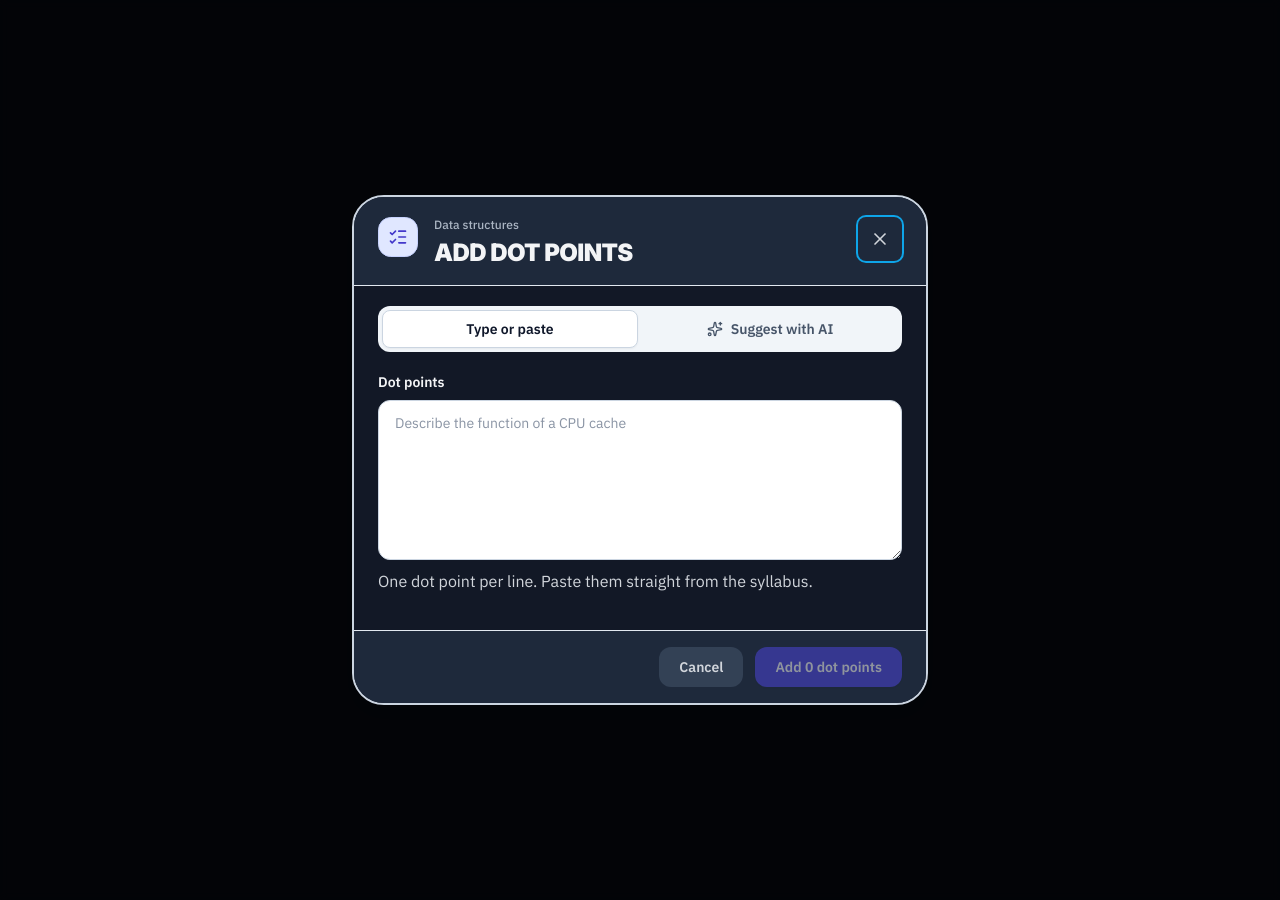
DotPointGeneratorModal: typing or pasting dot points › asks before discarding typed text, and keeps it if the teacher keeps editing
In the text box labelled "Dot points": (640, 480) [378,400,902,560], type "Describe a cache"
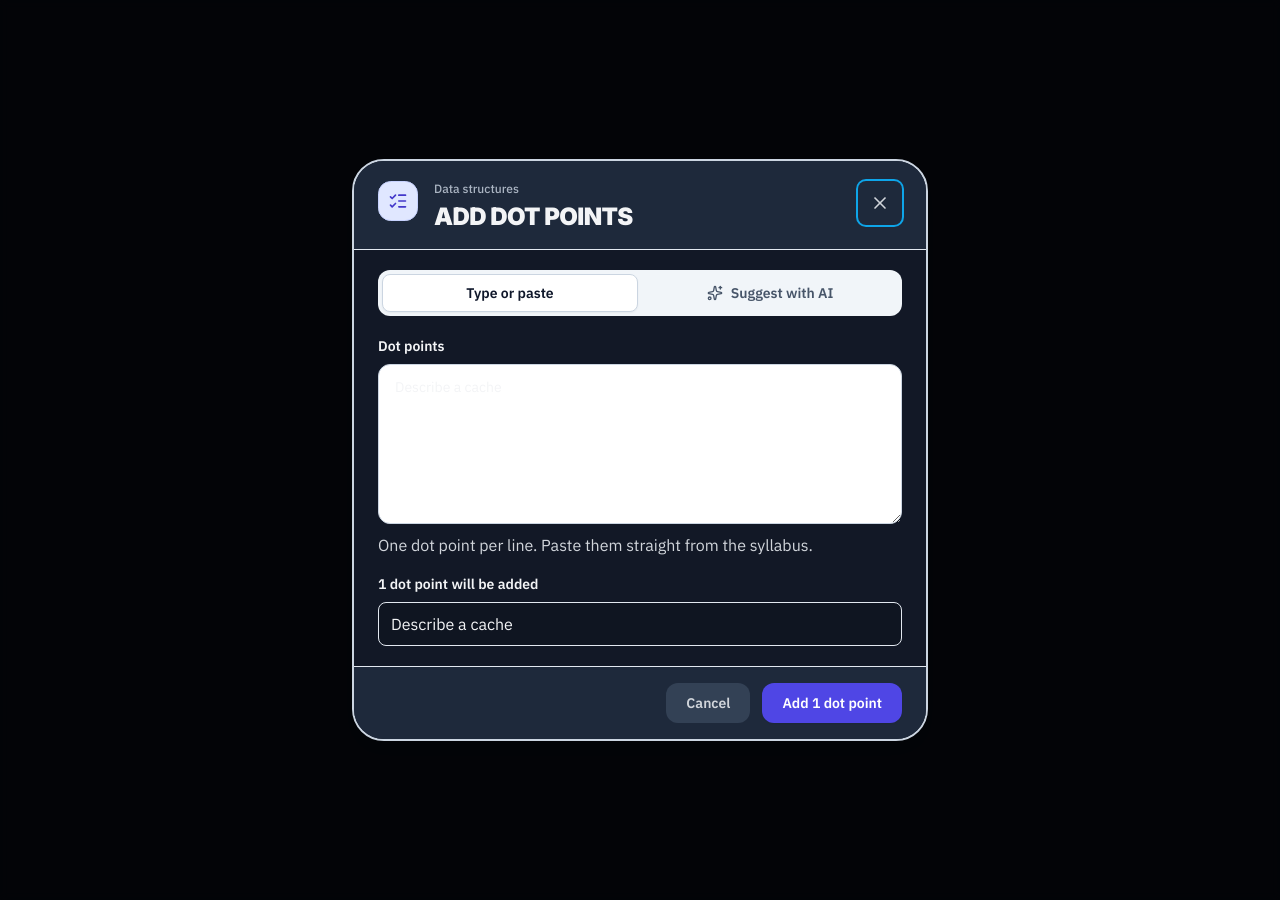
Click the button named "Close": (880, 202) [858,180,902,224]
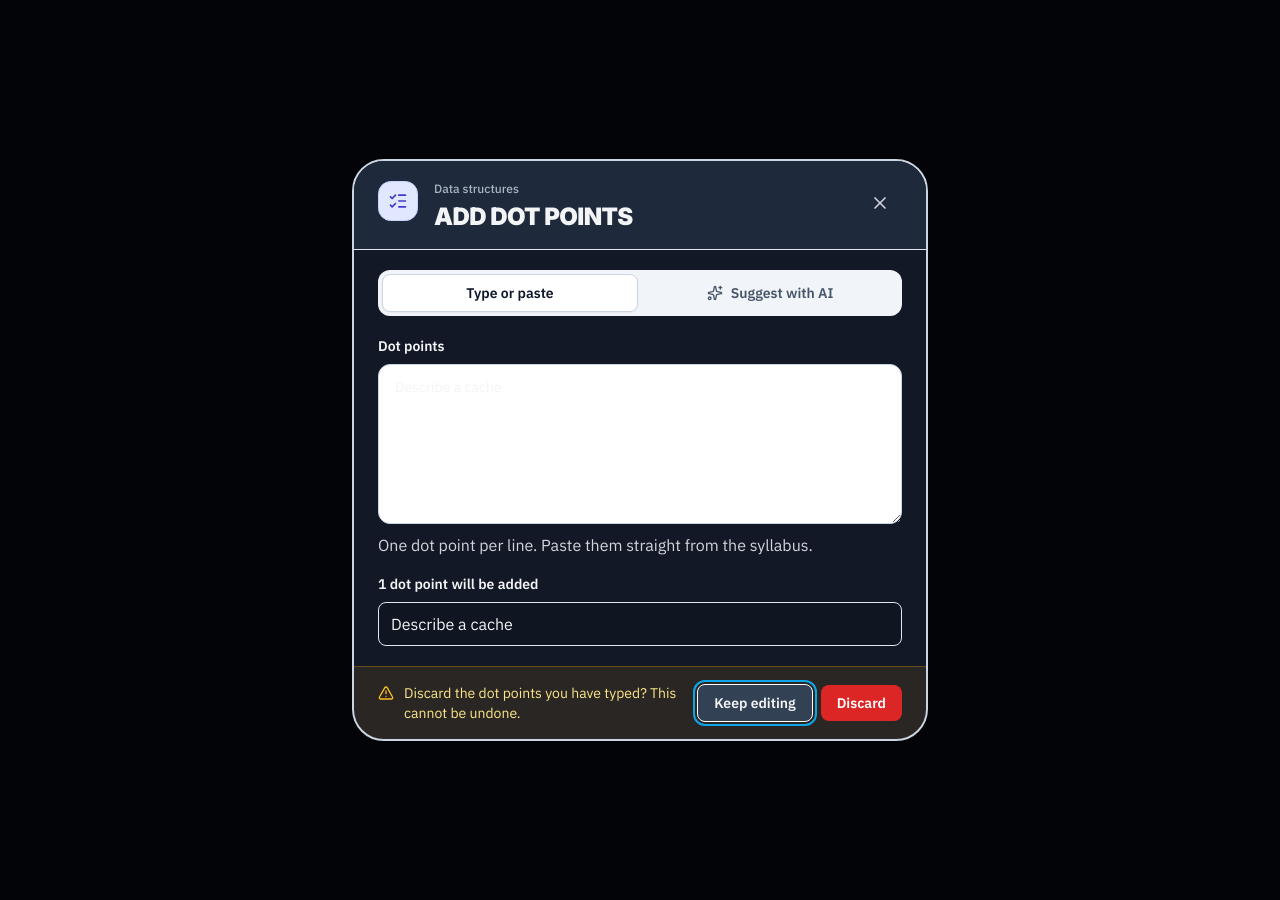
Expected: the text "Discard the dot points you have typed" is shown, [404,684,685,724]
Click the button "Keep editing": (755, 704) [697,684,813,722]
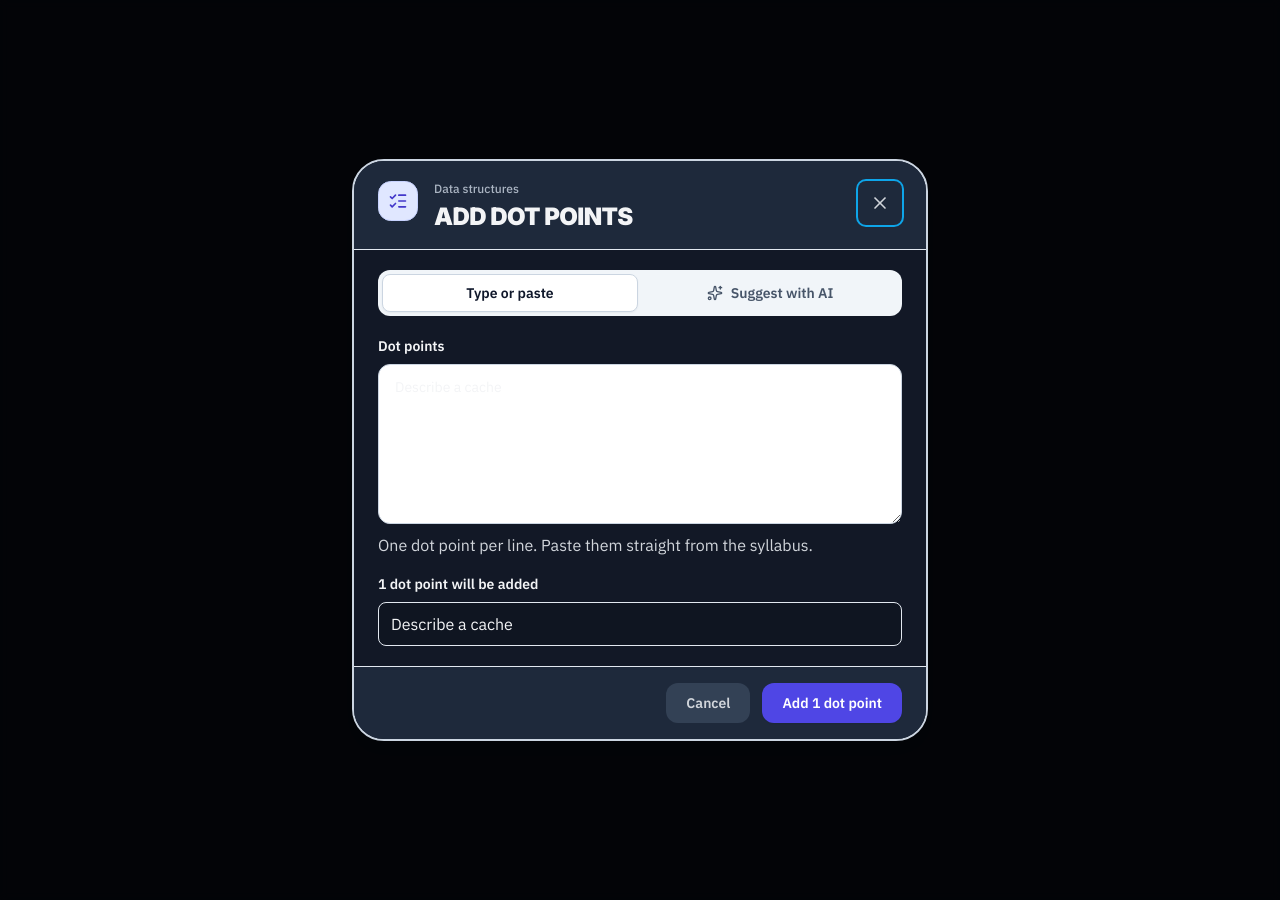
Expected: the text "Discard the dot points you have typed" is gone
